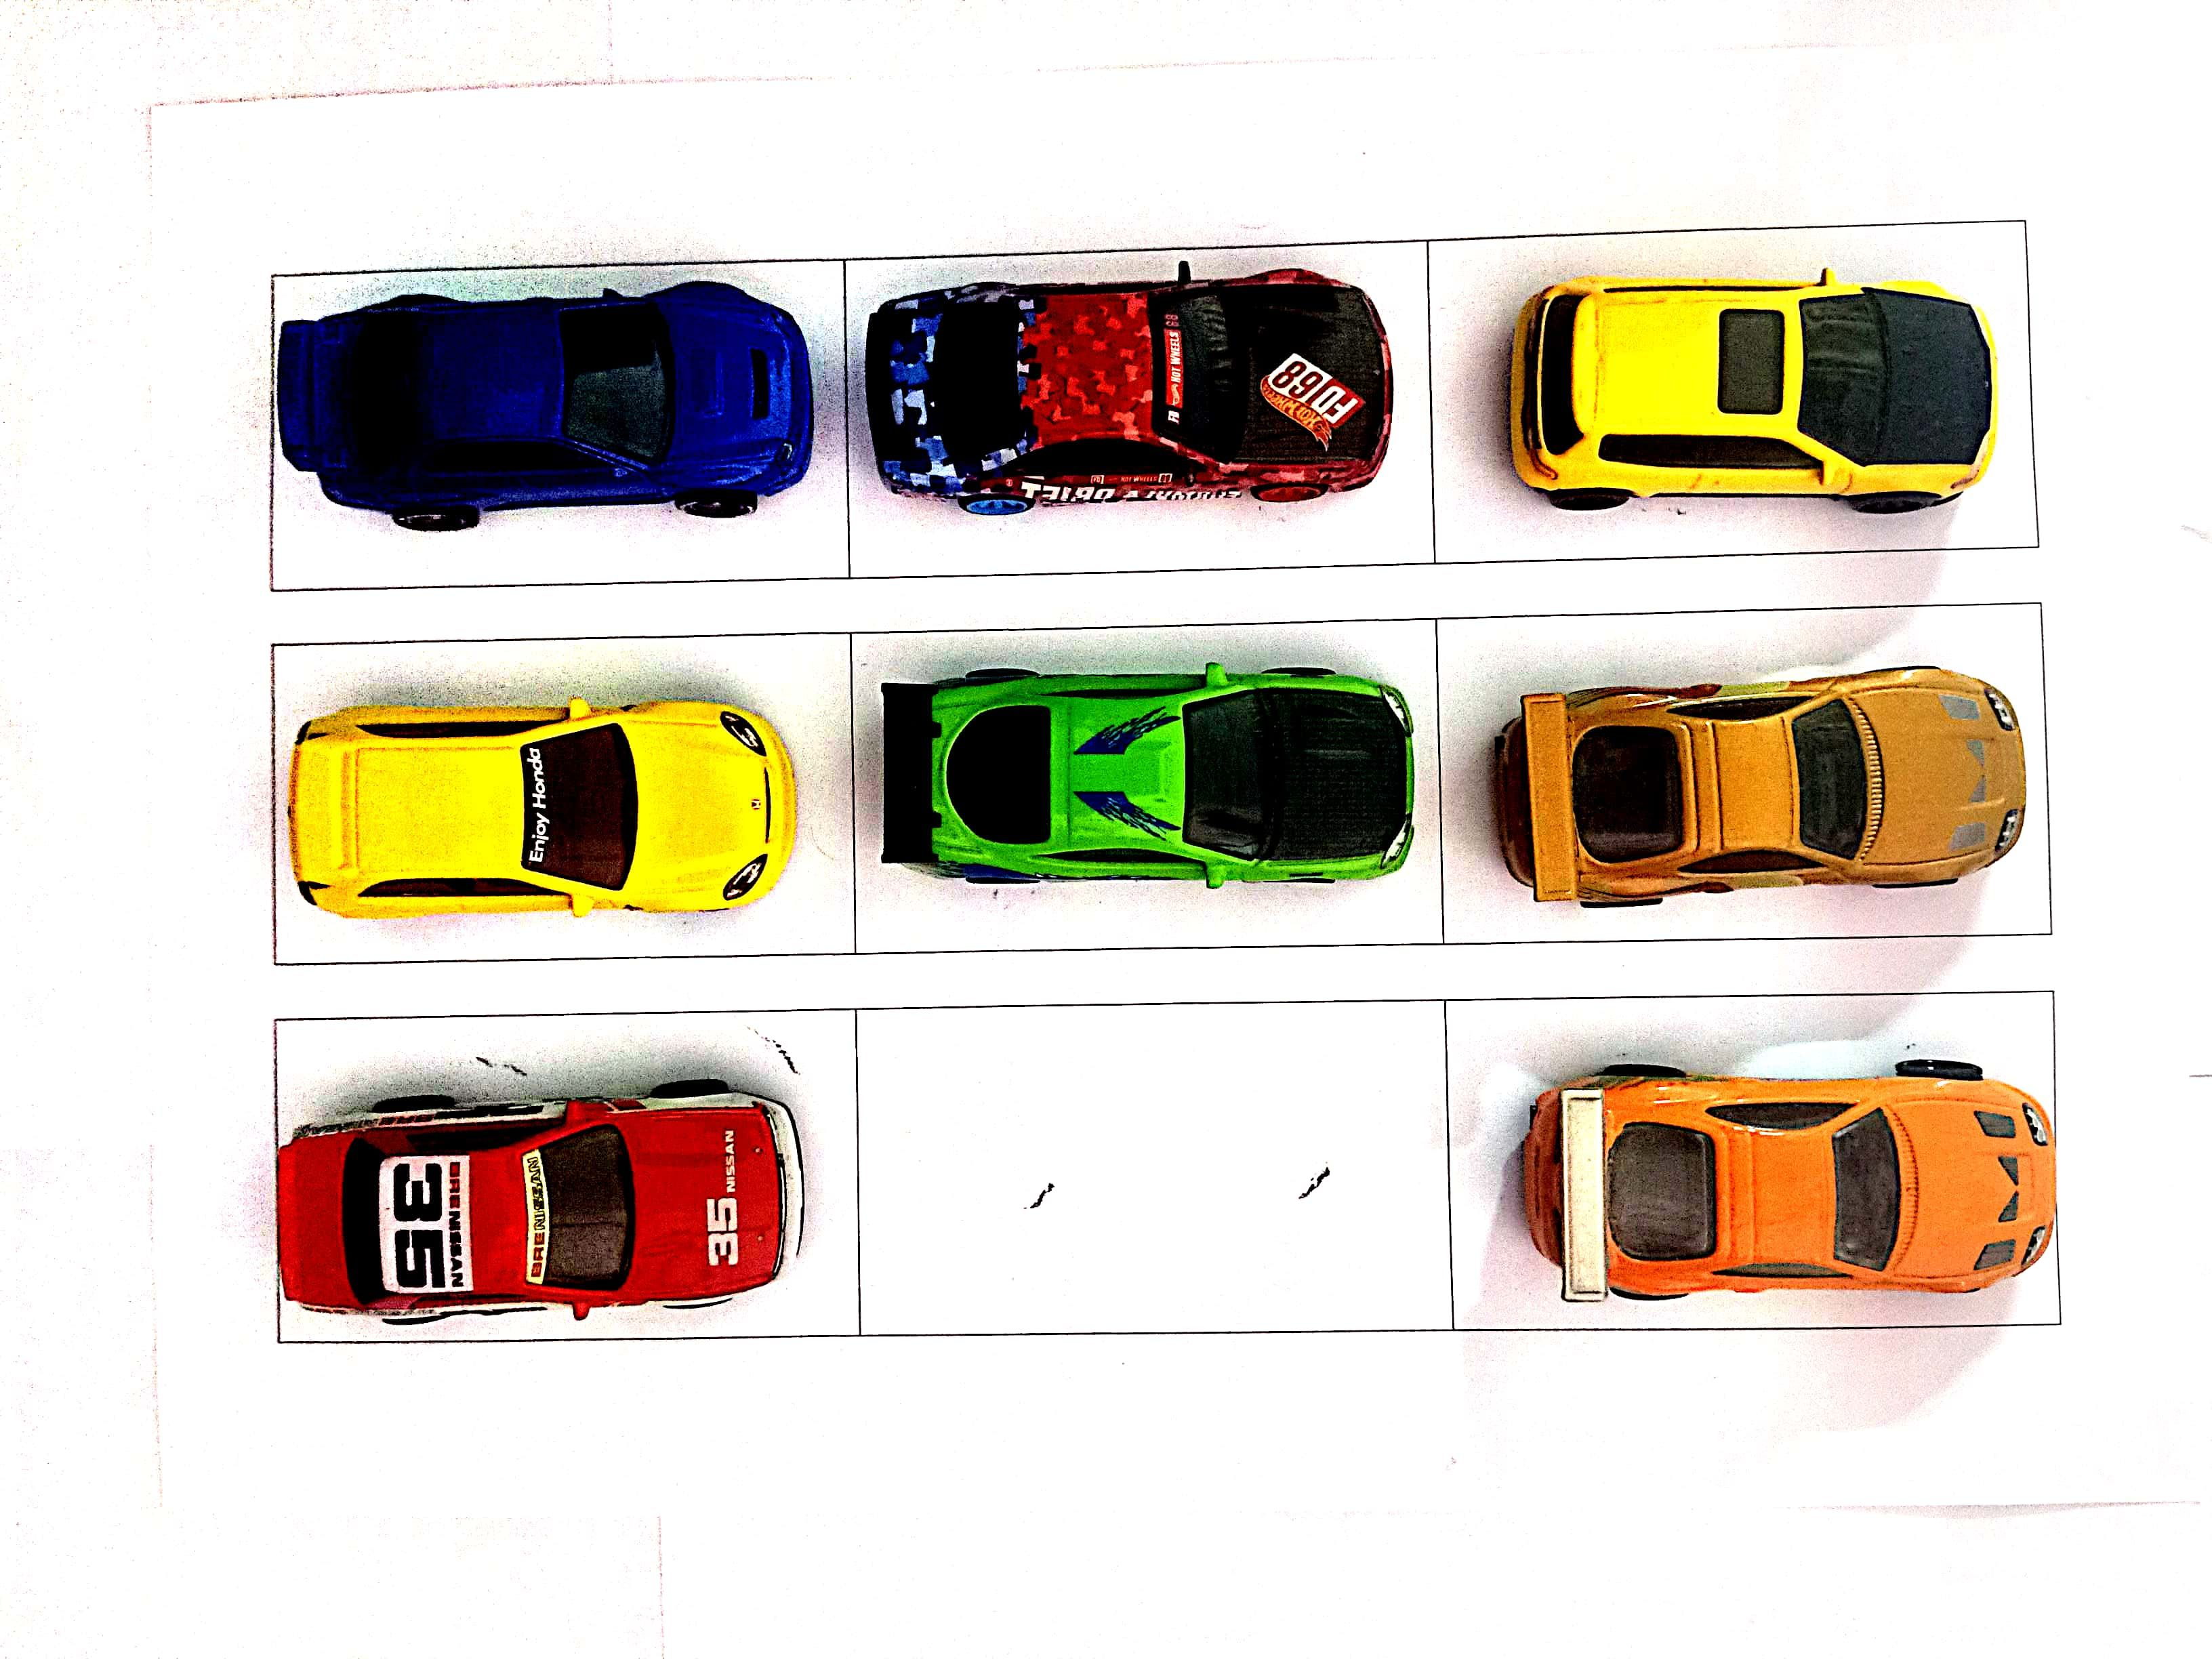Busy: (1453, 997, 2057, 1323), (1451, 606, 2036, 941), (1437, 230, 2036, 552), (859, 619, 1442, 948), (279, 629, 846, 965), (852, 244, 1421, 566), (279, 1011, 848, 1331), (273, 263, 843, 580)
Free: (862, 1006, 1453, 1331)
